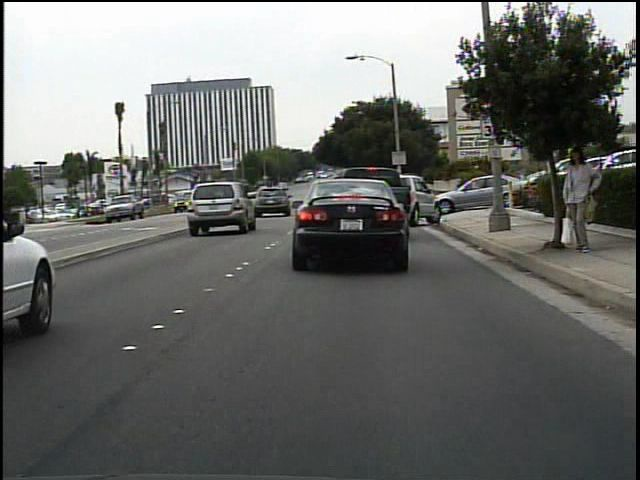person: (559, 139, 605, 255)
